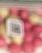2d: (8, 20, 23, 35)
